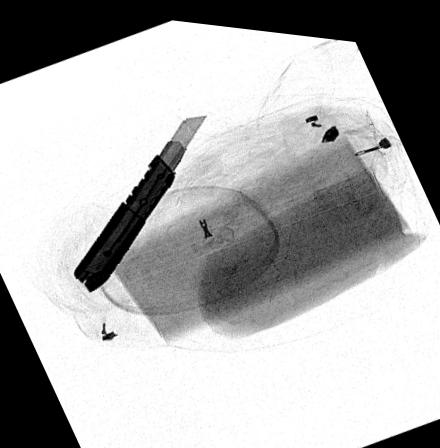Knife: (71, 109, 206, 290)
